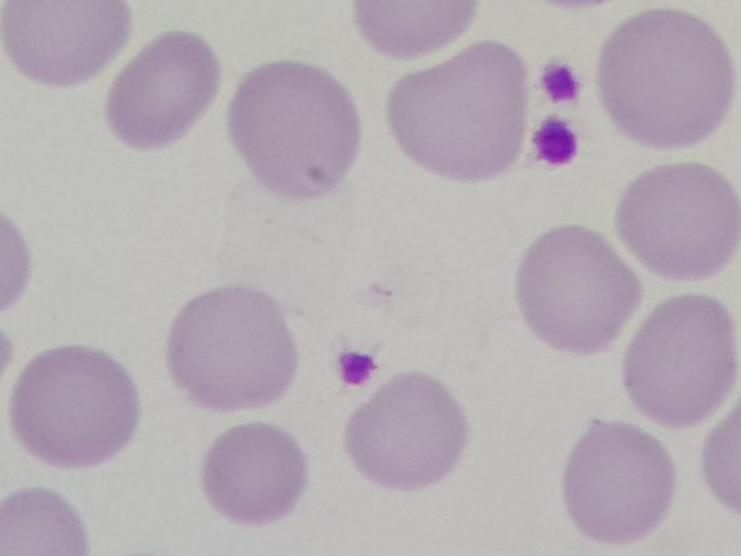Uninfected: (390, 42, 525, 181), (227, 59, 360, 198), (599, 10, 732, 149), (516, 222, 640, 357), (167, 288, 298, 413), (621, 296, 740, 429), (11, 345, 136, 470), (616, 165, 737, 281), (344, 373, 466, 488), (563, 420, 676, 544), (107, 29, 219, 152), (0, 0, 129, 86), (203, 423, 306, 526)
